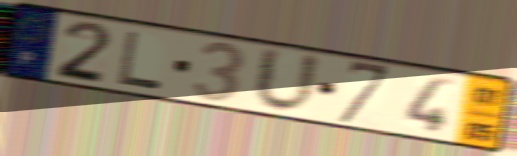2: (56, 20, 115, 87)
3: (192, 41, 251, 104)
4: (402, 74, 452, 136)
7: (335, 58, 394, 126)
L: (115, 29, 165, 92)
U: (251, 44, 324, 116)
